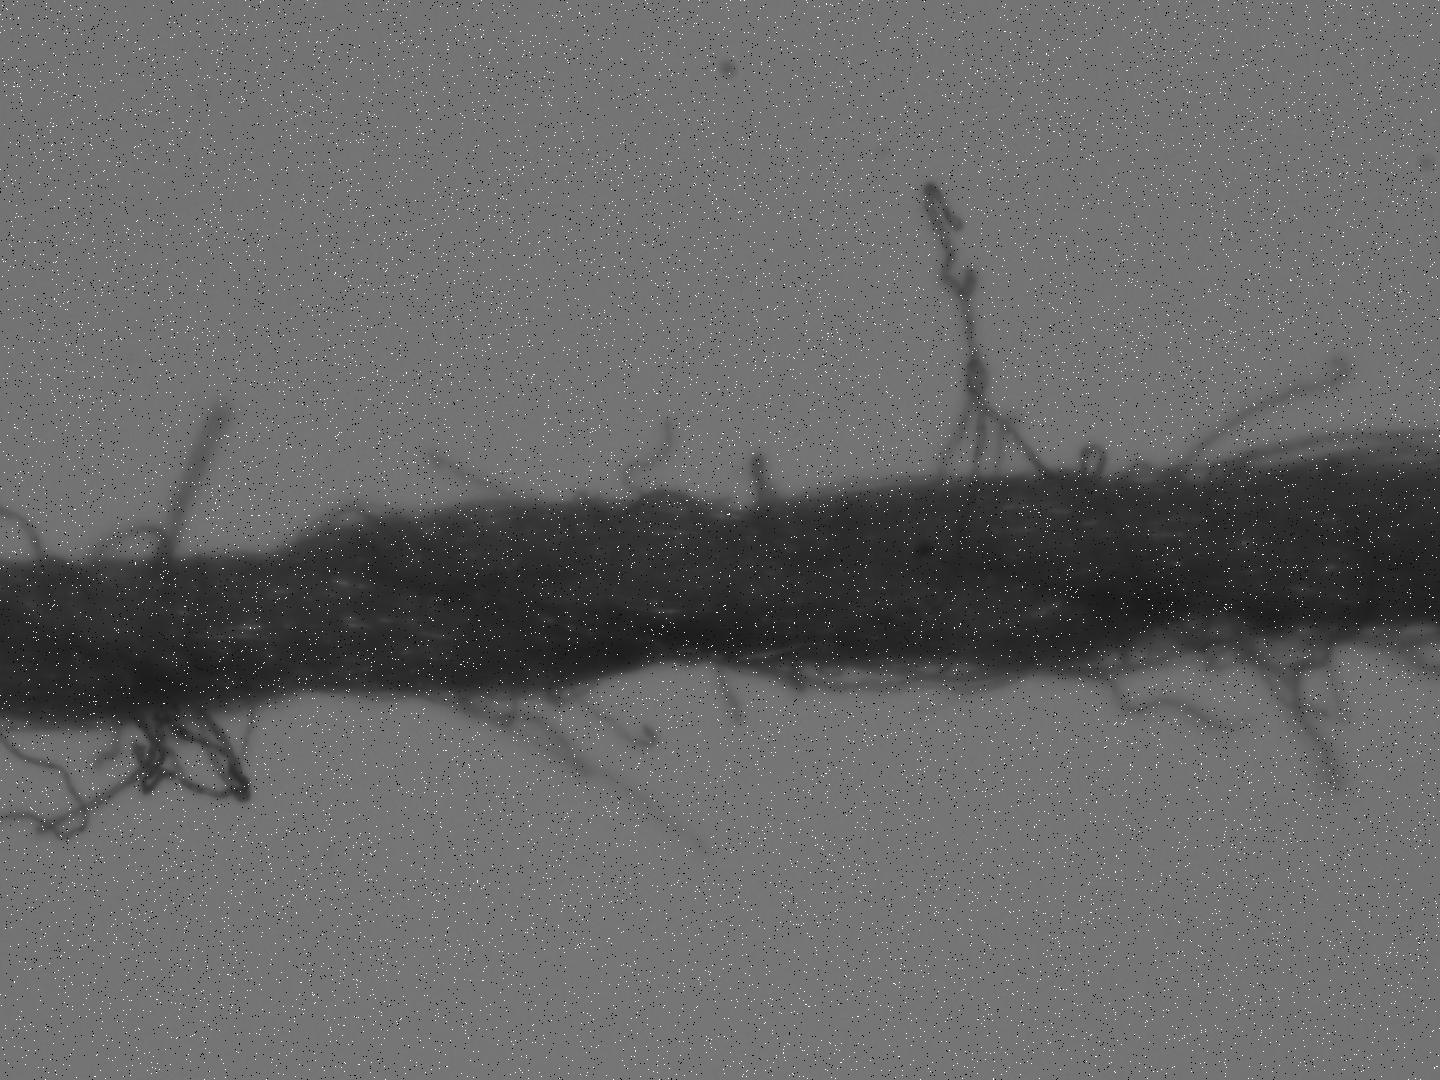loop_fiber: (926, 356, 1106, 482), (706, 651, 1090, 698), (1154, 615, 1367, 682), (119, 701, 260, 801), (74, 523, 178, 568)
protruding_fiber: (416, 697, 718, 857), (1160, 352, 1353, 475), (917, 174, 988, 499), (1016, 658, 1235, 737), (153, 391, 236, 565), (567, 684, 661, 753), (613, 407, 676, 507), (713, 659, 748, 743)
